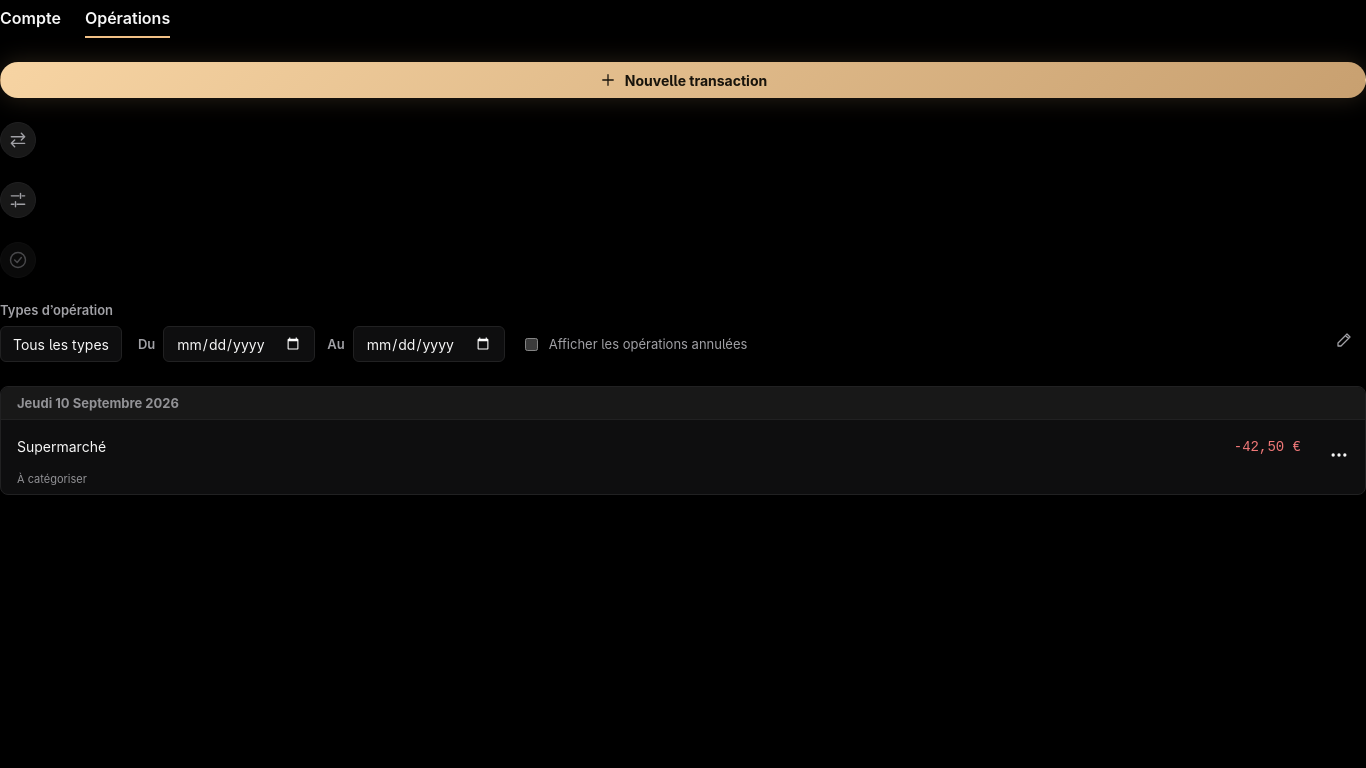
Test: AccountDetailPage › removes a row the server moved to another account and keeps the account boundary
Expected: the button "Supermarché" is shown, [17, 424, 106, 468]
Click the button named "Actions de la transaction « Supermarché »" at point(1339, 455), box [1321, 437, 1357, 473]
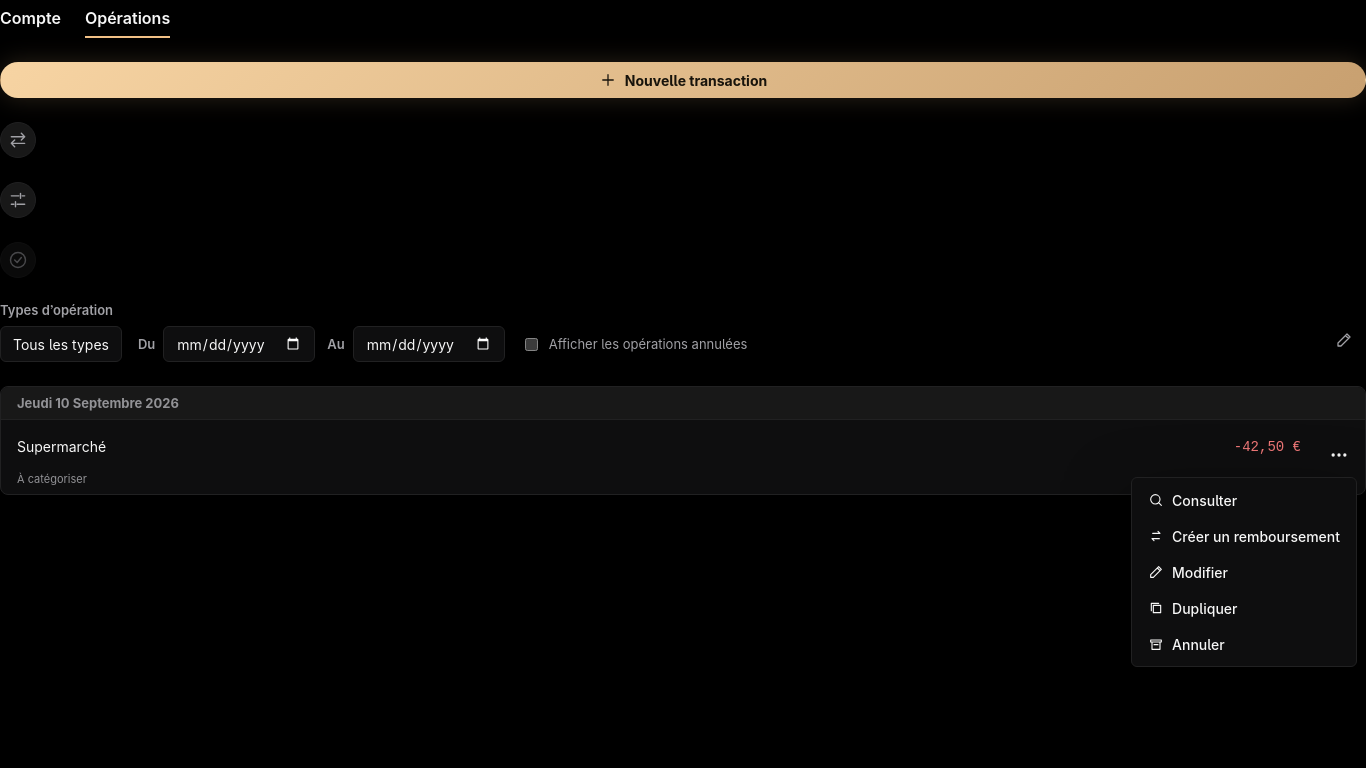
Click the button with aria-label "Modifier la transaction « Supermarché »" at point(1244, 572), box [1136, 554, 1352, 590]
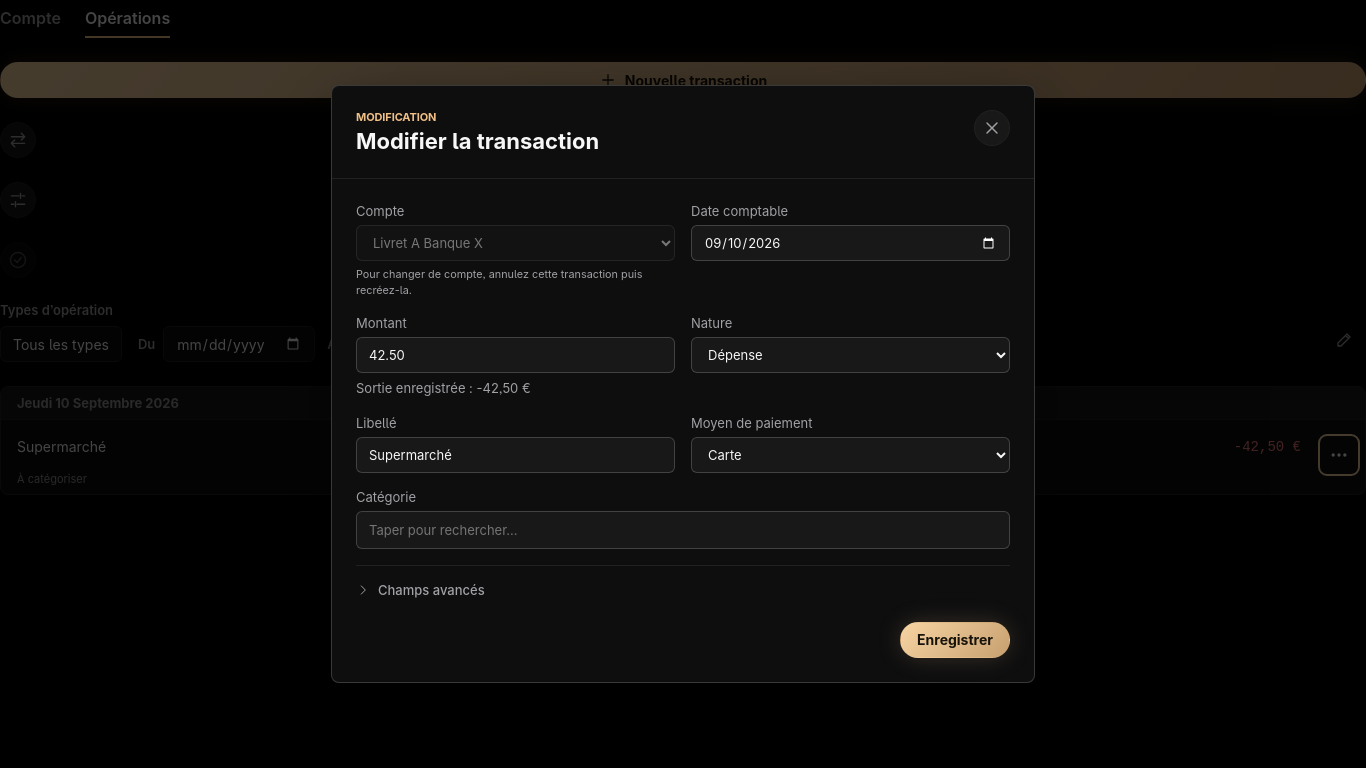
Replace the text in the field labelled "Libellé" with "Déplacée" at point(516, 455), box [356, 437, 675, 473]
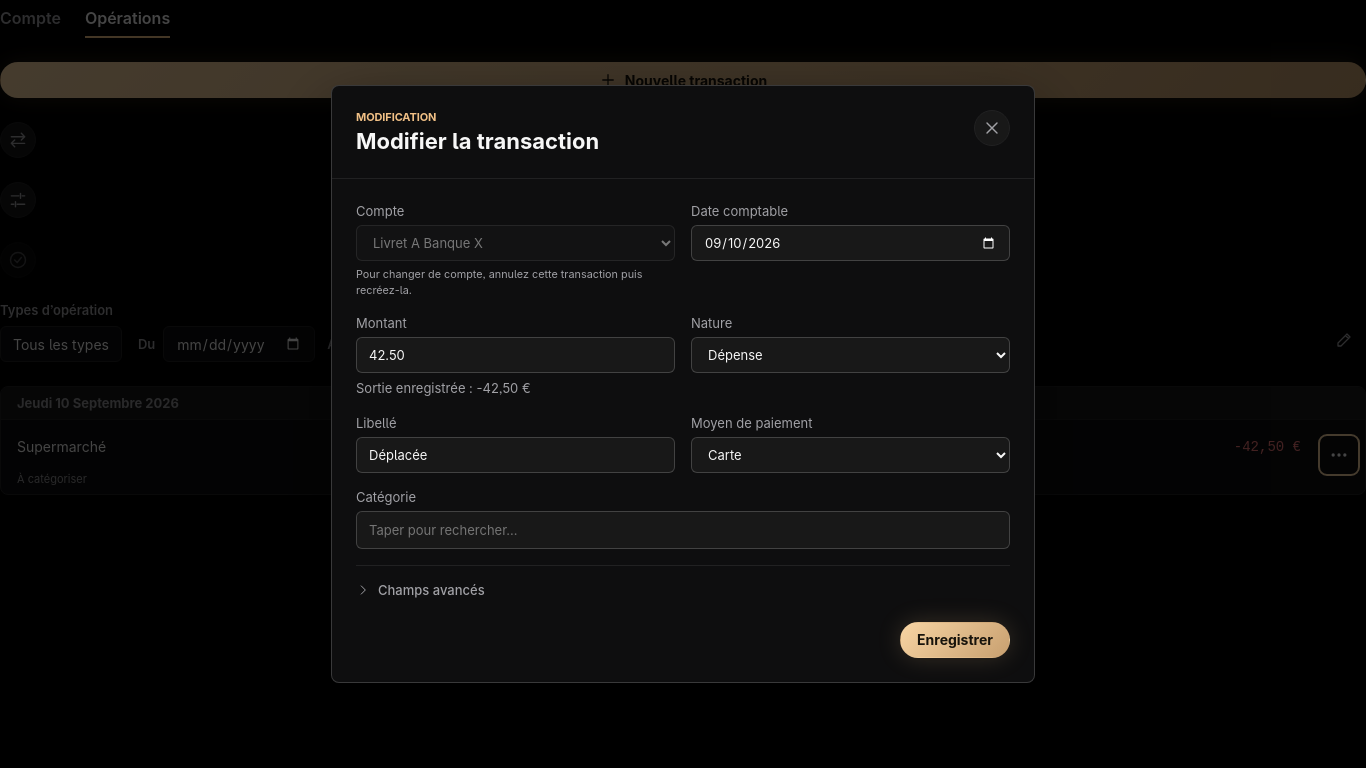
Click the button "Enregistrer" at point(955, 640), box [900, 622, 1010, 658]
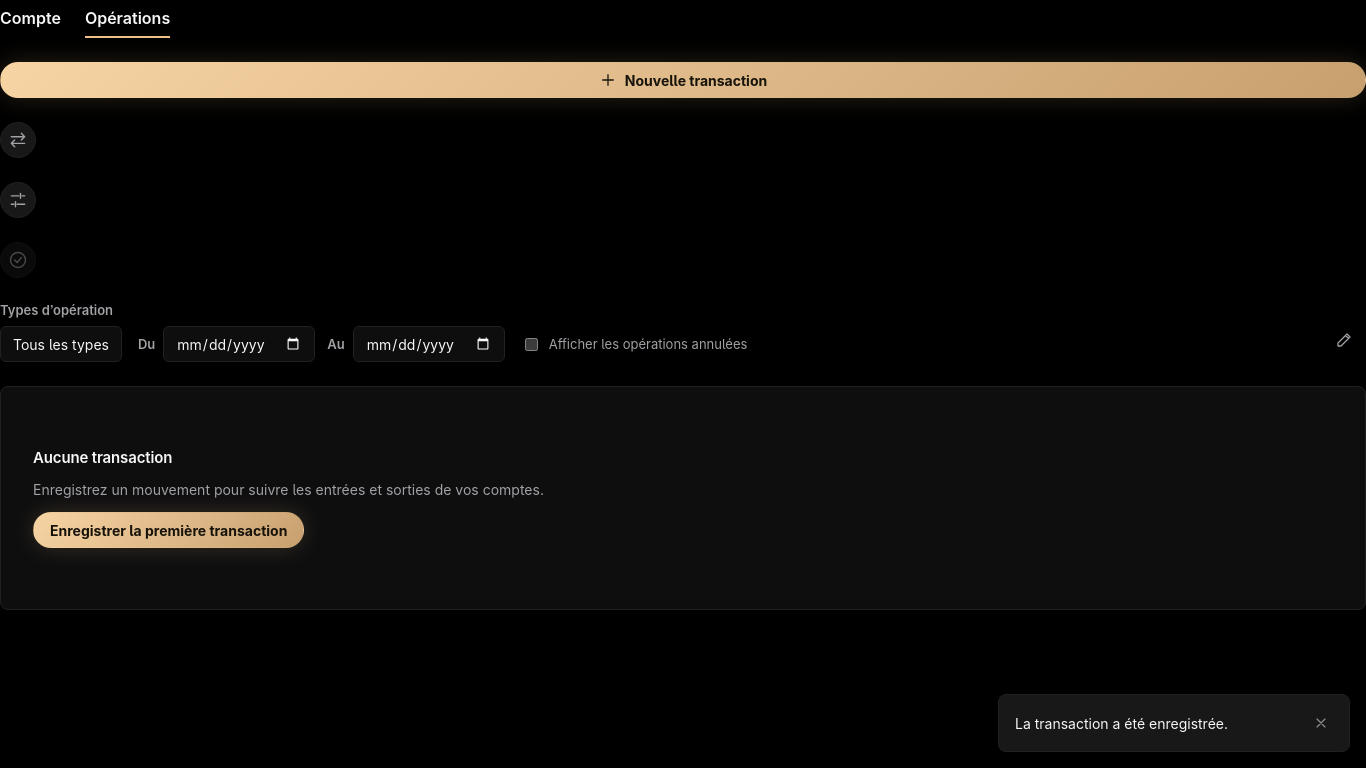
Expected: the text "Déplacée" is not shown
Expected: the button "Supermarché" is gone
Expected: the text "La transaction a été enregistrée." is shown, [1015, 714, 1228, 732]
